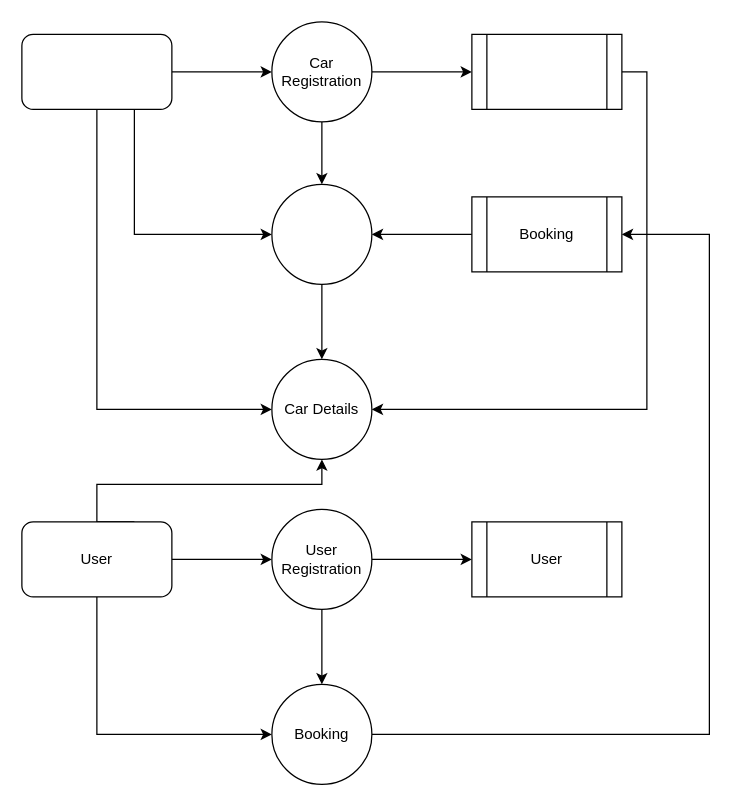
Some shapes in this 741 by 806 pixel diagram are drawn without their labels. The centre of each missing label's shape, as x and y in pixels:
Admin: (x=96, y=71)
Booking History: (x=321, y=233)
Car: (x=546, y=71)
